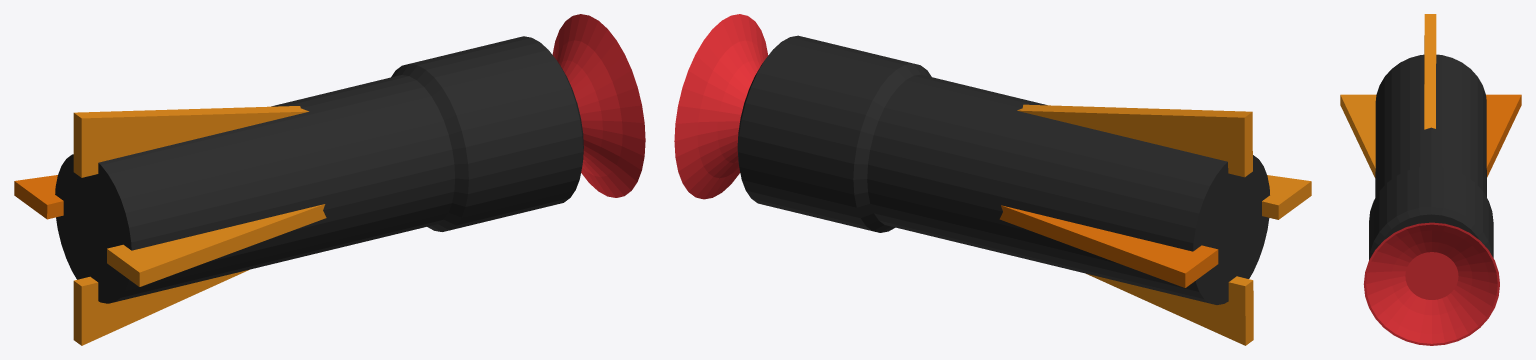
The model's file is BalafbxV2.fbx.
The picture shows the model from 3 angles, left to right: view 1: azimuth 30°, elevation 25°; view 2: azimuth 150°, elevation 25°; view 3: azimuth 270°, elevation 25°; orthographic projection. The views are drawn at different scales.
Parts seen in each view (by area): view 1: Cylinder, Cylinder.001, Plane.005, Plane.003, wwww, Plane.002; view 2: Cylinder, Cylinder.001, Plane.005, Plane.002, wwww, Plane.003; view 3: Cylinder, Cylinder.001, Plane.003, Plane.002, Plane.005.
Boxes of the visible parts, x1,y1,x2,y2 form: Cylinder: [55, 36, 583, 303]; Cylinder.001: [552, 14, 645, 197]; Plane.005: [73, 106, 308, 177]; Plane.003: [107, 204, 326, 286]; wwww: [73, 269, 249, 345]; Plane.002: [14, 175, 63, 219]; Cylinder: [737, 35, 1269, 304]; Cylinder.001: [674, 14, 768, 199]; Plane.005: [1017, 104, 1252, 177]; Plane.002: [999, 205, 1218, 287]; wwww: [1086, 273, 1253, 345]; Plane.003: [1262, 175, 1311, 219]; Cylinder: [1369, 54, 1493, 259]; Cylinder.001: [1363, 222, 1499, 345]; Plane.003: [1340, 94, 1376, 177]; Plane.002: [1486, 94, 1521, 177]; Plane.005: [1424, 14, 1436, 129].
Size of the model in its own units: 22.4 by 9.3 by 9.3.
